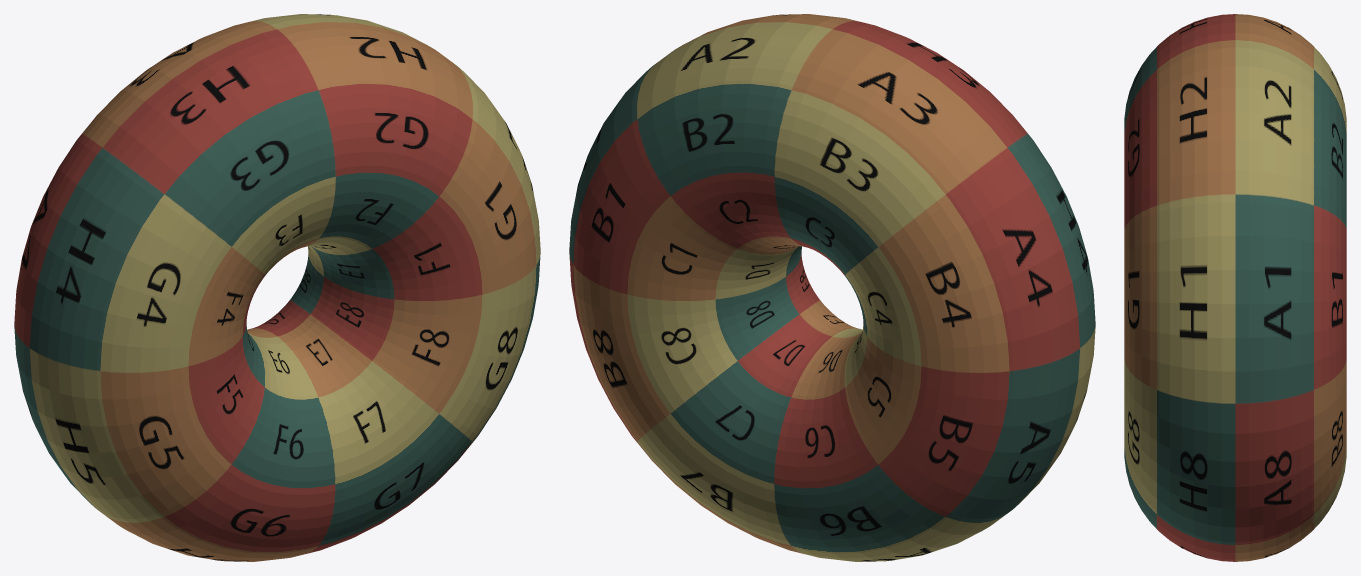
File: texture_torus_R4_r25.glb
The picture shows the model from 3 angles, left to right: view 1: azimuth 30°, elevation 25°; view 2: azimuth 150°, elevation 25°; view 3: azimuth 270°, elevation 25°; orthographic projection. The views are drawn at different scales.
Parts seen in each view (by area): view 1: world; view 2: world; view 3: world.
Part boxes in pixels (box(x1,y1,x2,y2)): world: box(14, 14, 540, 561); world: box(569, 14, 1095, 561); world: box(1124, 14, 1346, 561).
Bounding box in the file's own units: 21.33 × 21.29 × 8.65.
1 material, 1 textured.
